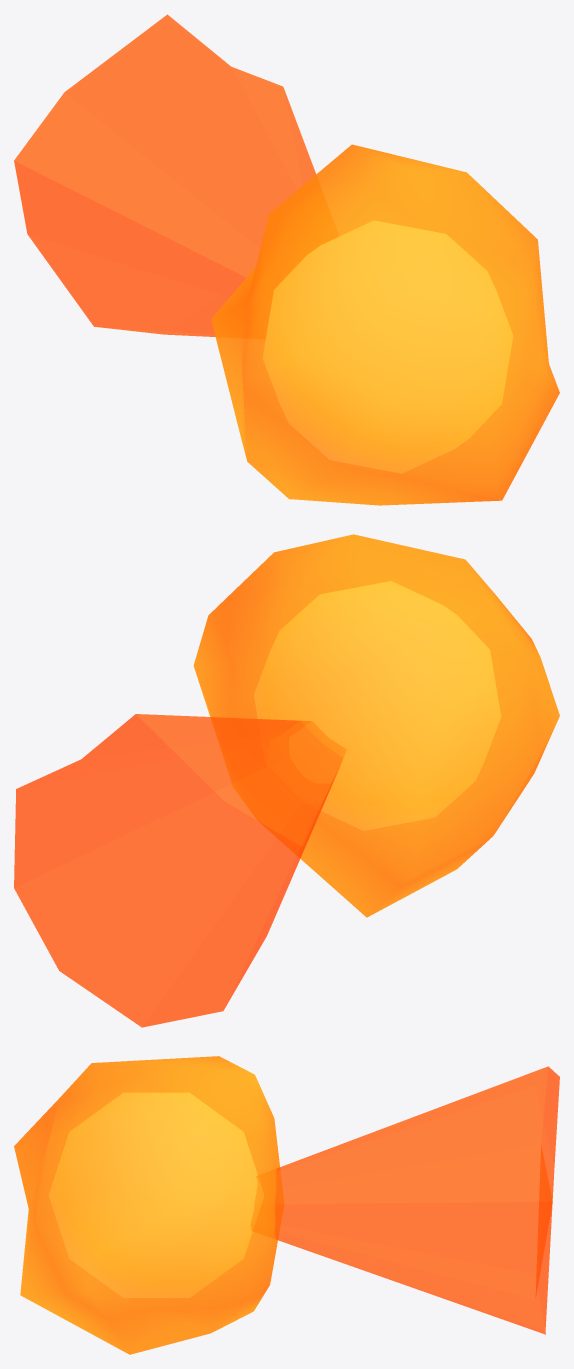
The model's file is fireball.glb.
The picture shows the model from 3 angles, top to bottom: view 1: azimuth 30°, elevation 25°; view 2: azimuth 150°, elevation 25°; view 3: azimuth 270°, elevation 25°; orthographic projection. The views are drawn at different scales.
Visible parts, largest first — view 1: fireball; view 2: fireball; view 3: fireball.
Boxes of the visible parts, box(x1,y1,x2,y2) form: fireball: box(14, 14, 559, 505); fireball: box(14, 534, 559, 1027); fireball: box(14, 1056, 559, 1354).
Bounding box in the file's own units: 0.2397 × 0.2272 × 0.4048.
